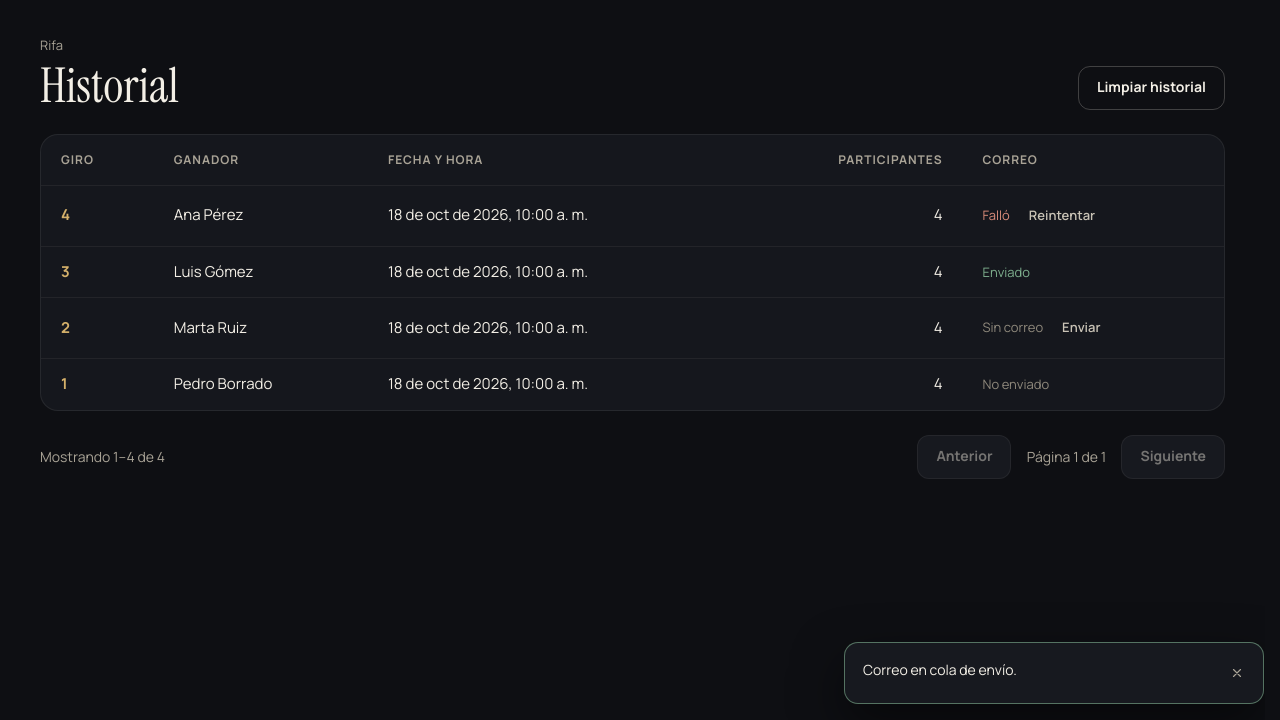
Scenario: HistoryView · correo al ganador › si el ganador no tiene correo muestra el motivo
This screenshot has width=1280, height=720.
expect the cell "Marta Ruiz" is shown: met, box [154,298,368,358]
Click the button "Enviar" at {"x": 1081, "y": 328}, box [1051,312,1112,344]
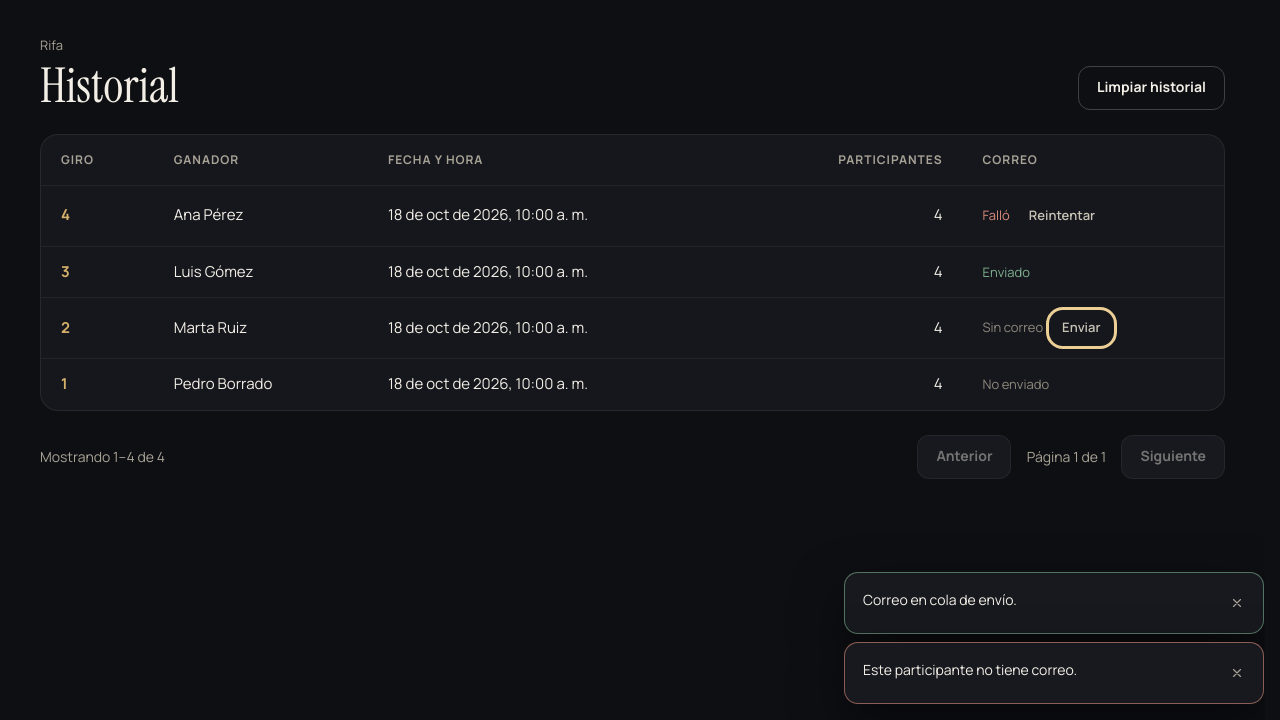
expect the text "Este participante no tiene correo." is shown: met, box [863,660,1077,679]
